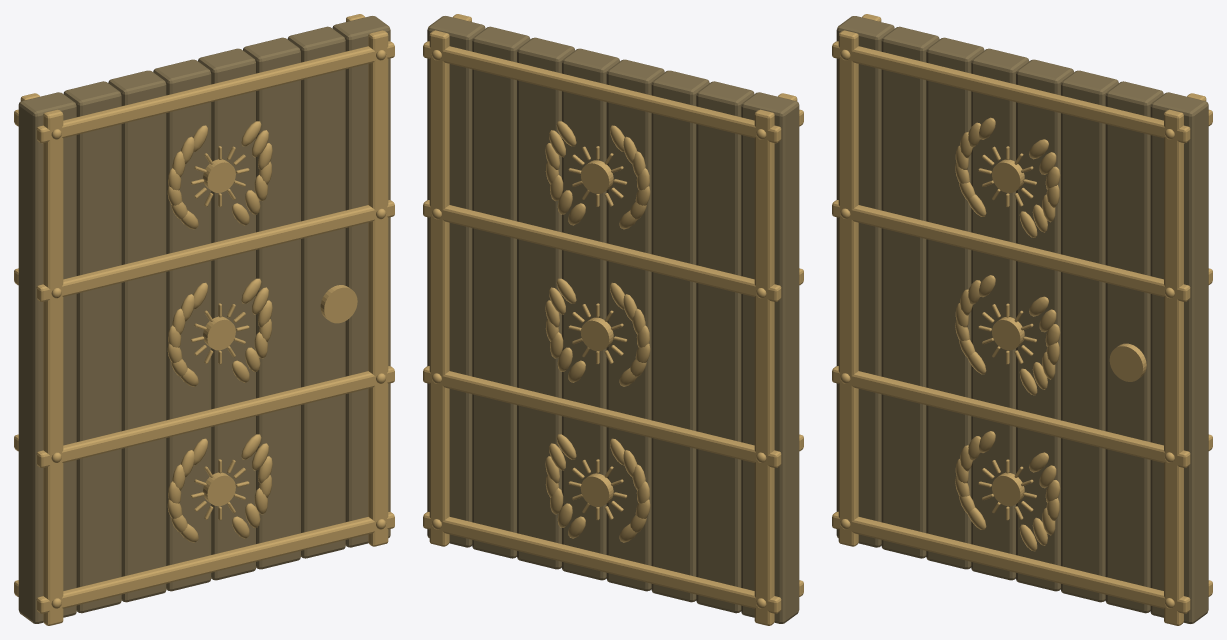
The model's file is bronze-leaf.glb.
3 views of the same model, side by side, from view 1: azimuth 30°, elevation 25°; view 2: azimuth 150°, elevation 25°; view 3: azimuth 330°, elevation 25° (orthographic).
Visible parts, largest first — view 1: Door plank.016, Vertical bronze stile.008; view 2: Door plank.016, Vertical bronze stile.008; view 3: Door plank.016, Vertical bronze stile.008.
Boxes of the visible parts, x1,y1,x2,y2 form: Door plank.016: (18,16,390,623); Vertical bronze stile.008: (14,14,394,625); Door plank.016: (427,16,799,623); Vertical bronze stile.008: (423,14,803,625); Door plank.016: (836,16,1208,623); Vertical bronze stile.008: (832,14,1212,625).
Size of the model in its own units: 2.57 by 3.52 by 0.4405.
